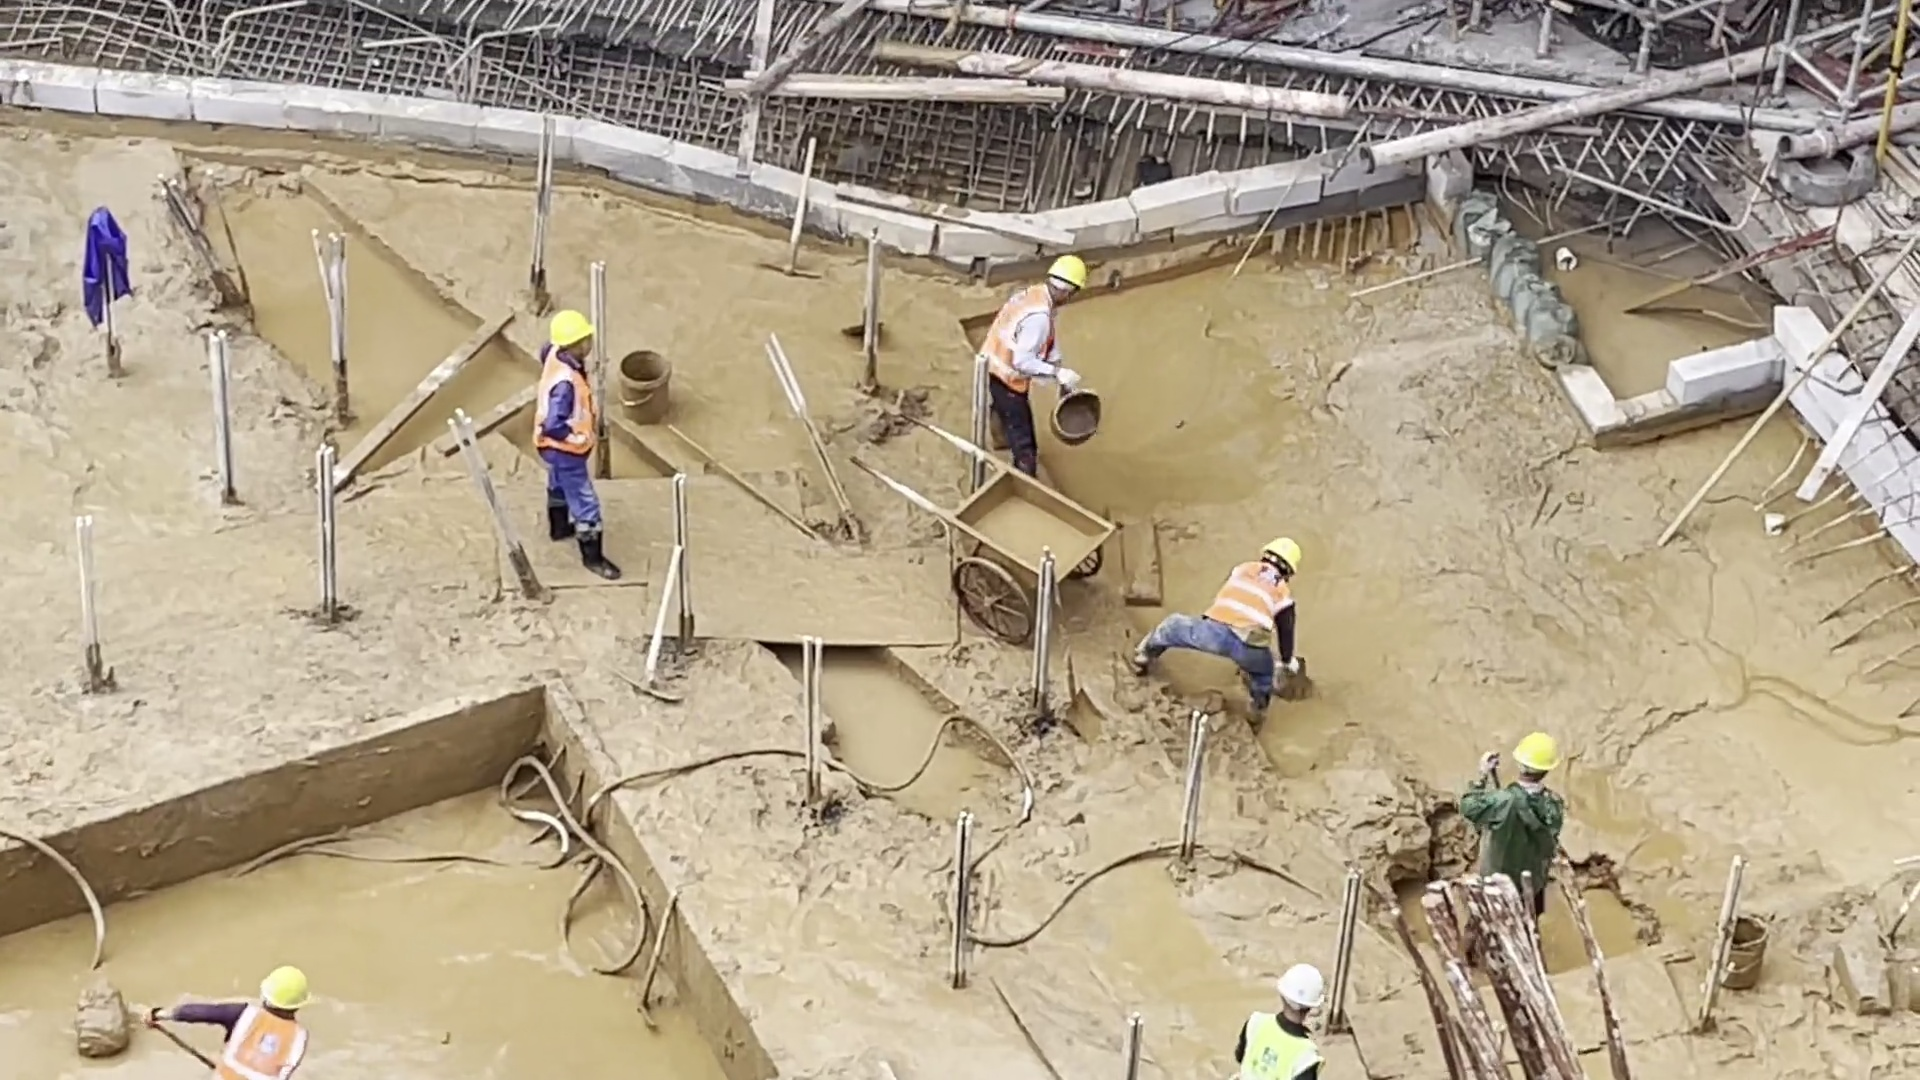handcart: (853, 408, 1117, 641)
helmet: (1274, 961, 1328, 1009), (257, 966, 310, 1010), (1512, 732, 1563, 770), (549, 308, 595, 347), (1260, 536, 1303, 572), (1045, 256, 1088, 290)
person: (1124, 525, 1308, 737), (524, 308, 629, 583), (969, 256, 1084, 476), (147, 954, 317, 1080), (1457, 734, 1568, 870), (1237, 961, 1331, 1080)
vest: (982, 285, 1055, 394), (1202, 565, 1295, 650), (207, 1005, 308, 1080), (533, 348, 600, 460), (1238, 1009, 1325, 1080)
